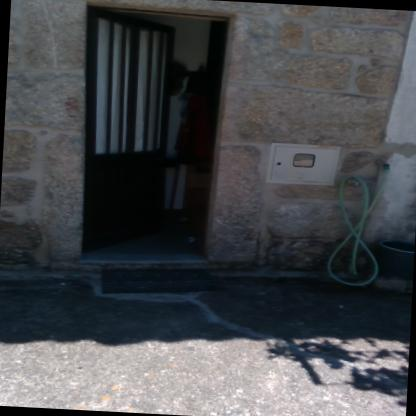semi: (66, 0, 245, 269)
